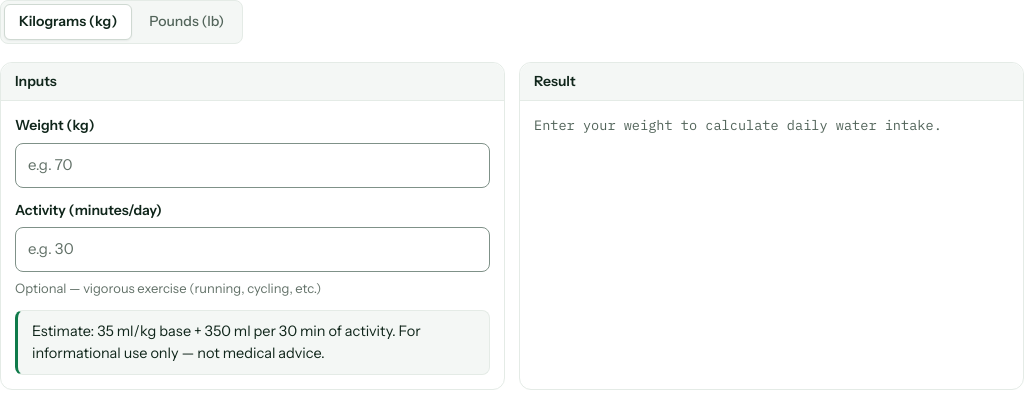
Test: WaterIntake › 70 kg, 30 min activity → 2800 ml (base + 350)
Type "70" into the number field with placeholder "e.g. 70". click: [252, 165]
box: [15,143,490,188]
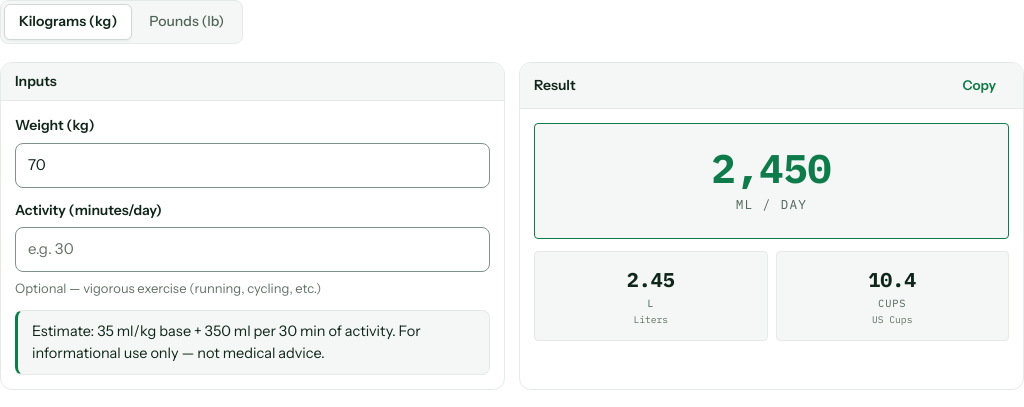
Type "30" into the number field with placeholder "e.g. 30". click: [252, 250]
box: [15,227,490,272]
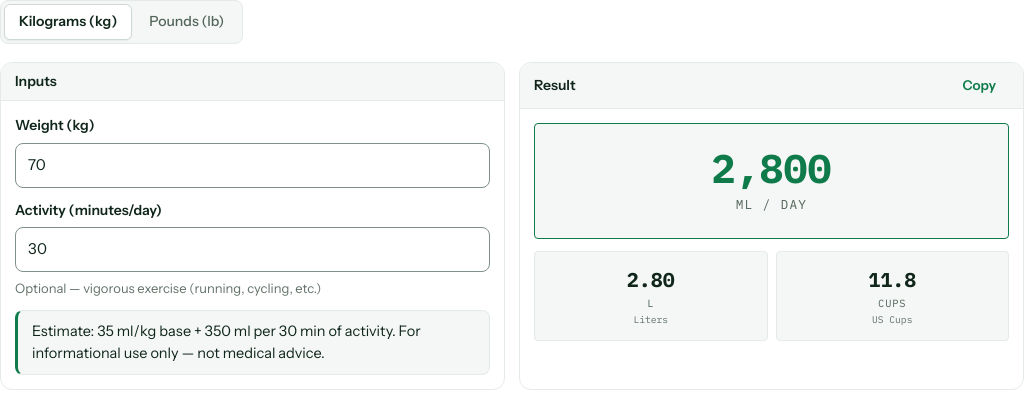
Check: the text "2,800" is shown, box [712,148,832,188]
